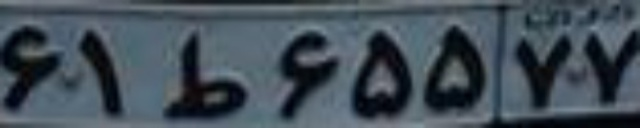1: (78, 26, 131, 117)
5: (349, 30, 413, 118), (422, 25, 487, 111)
6: (274, 29, 337, 121), (0, 24, 65, 112)
7: (511, 33, 569, 111), (585, 29, 638, 106)
taa: (155, 28, 248, 119)
